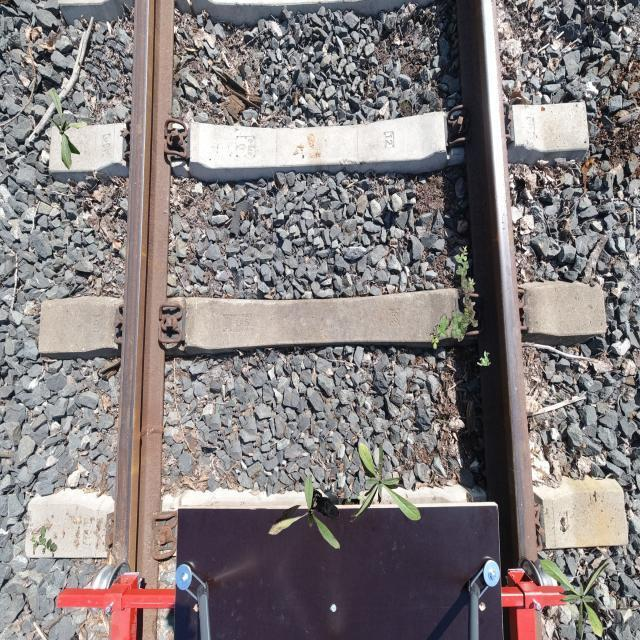Plant: (540, 558, 612, 639), (349, 442, 421, 523), (268, 474, 340, 548), (430, 245, 478, 348), (48, 87, 88, 170), (30, 526, 58, 556), (477, 351, 491, 366)
